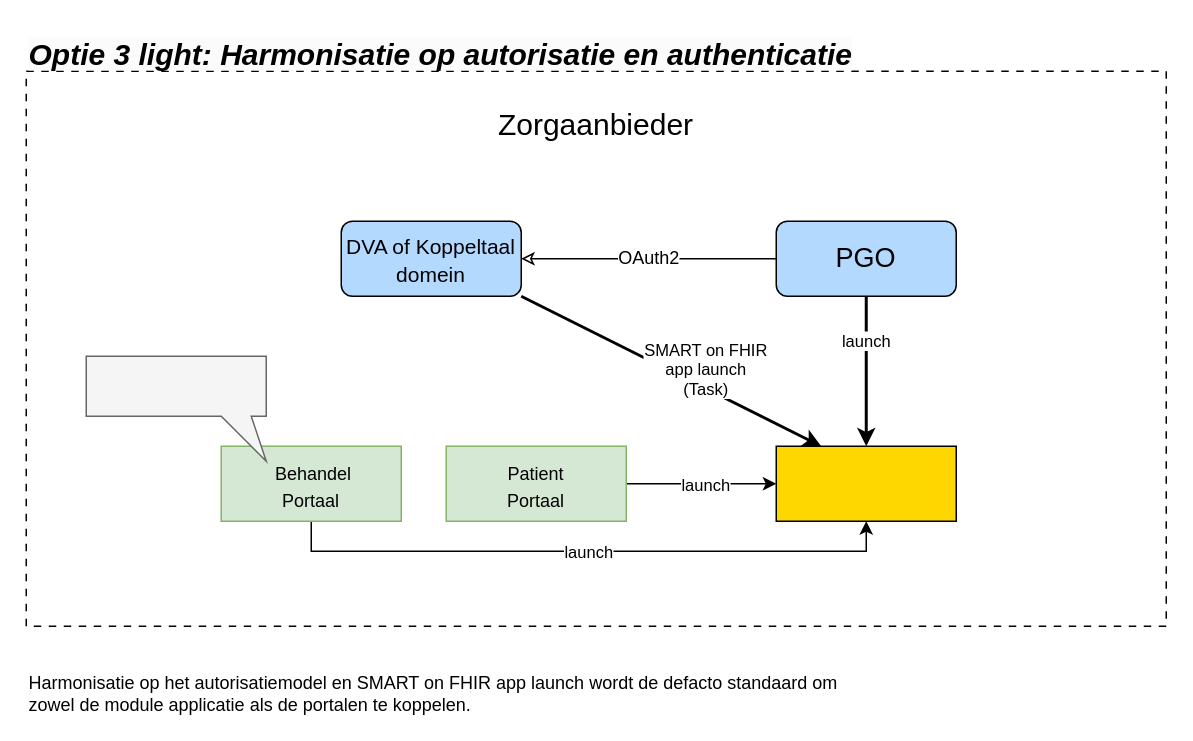
Image size: 1193x741. Some labels were removed from this diagram. Here are the shapes that lost their labels. From the top down, the centre of each, then its label:
At point (175, 408): "Maakt taak".
At point (865, 483): "Module".
